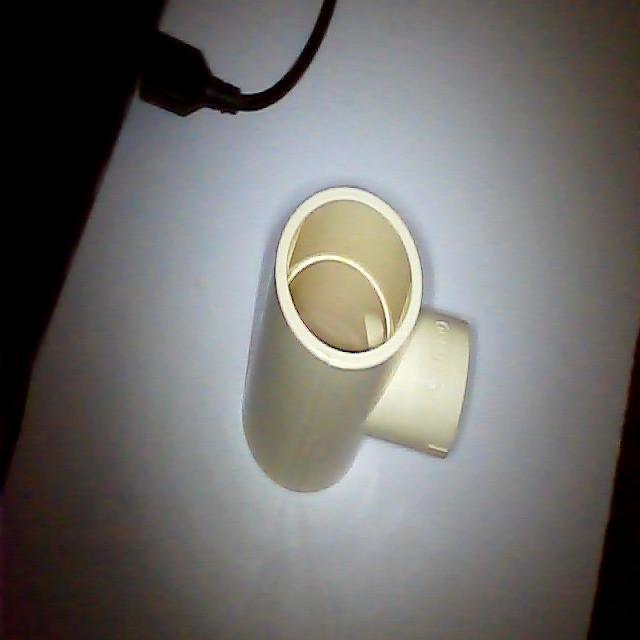T Joint: (243, 187, 478, 495)
